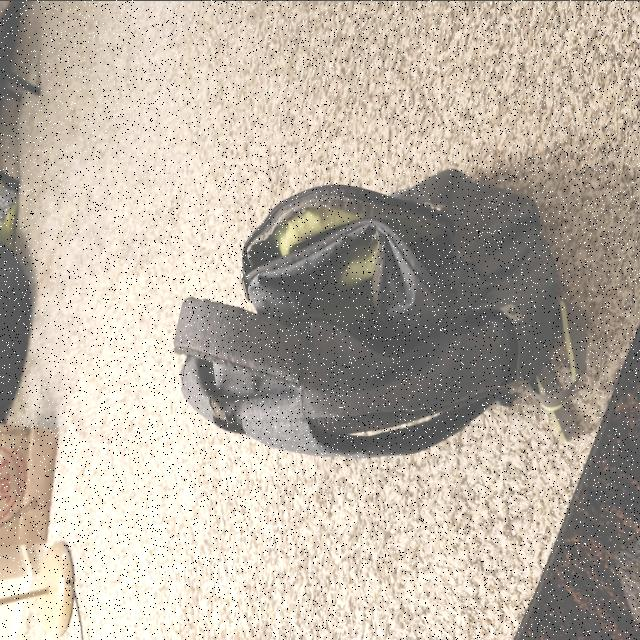bag: (180, 176, 574, 450)
